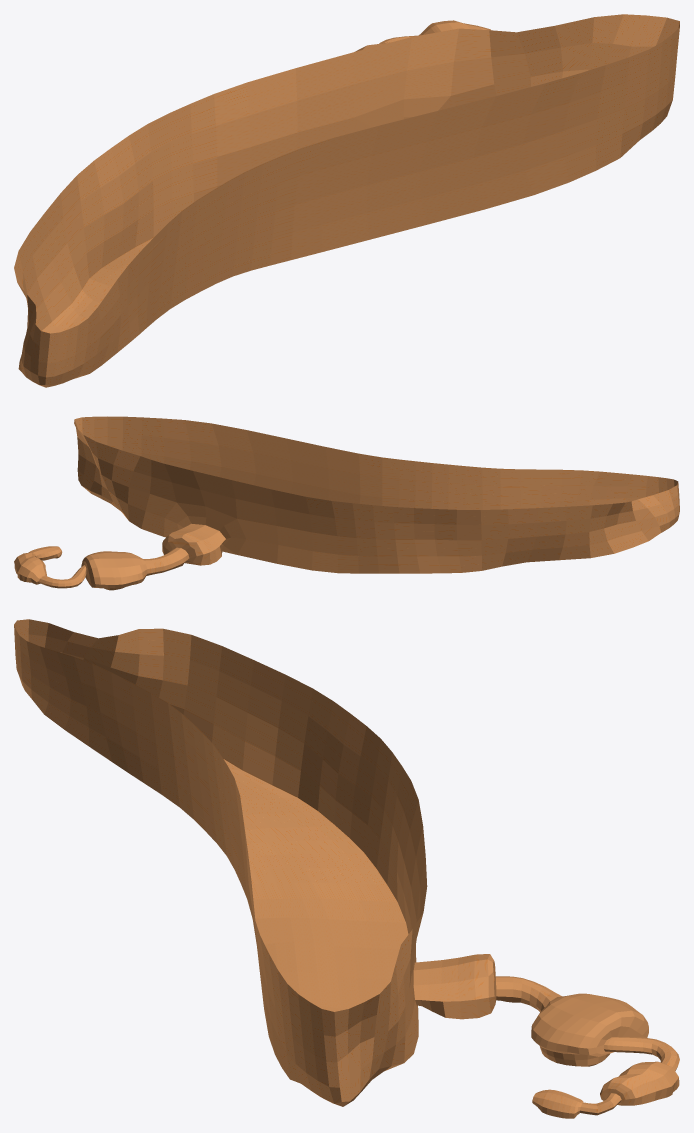
Rendered from caveSystem.fbx.
3 renders of one model, top to bottom at view 1: azimuth 30°, elevation 25°; view 2: azimuth 150°, elevation 25°; view 3: azimuth 270°, elevation 25°, orthographic. The views are drawn at different scales.
Parts seen in each view (by area): view 1: vally; view 2: vally, tunnela/room1, enterance, room2, tunnel2, BossRoom; view 3: vally, tunnela/room1, enterance, room2, tunnel2, BossRoom.
Part boxes in pixels (<box>): vally: <box>14,14,679,387</box>; vally: <box>74,416,679,573</box>; tunnela/room1: <box>81,547,189,590</box>; enterance: <box>162,523,225,565</box>; room2: <box>14,552,46,584</box>; tunnel2: <box>39,565,86,588</box>; BossRoom: <box>29,546,62,560</box>; vally: <box>14,619,427,1106</box>; tunnela/room1: <box>495,976,648,1066</box>; enterance: <box>413,954,496,1019</box>; room2: <box>600,1061,679,1105</box>; tunnel2: <box>603,1037,679,1070</box>; BossRoom: <box>532,1089,583,1118</box>.
Size of the model in its own units: 1186 by 196 by 812.
